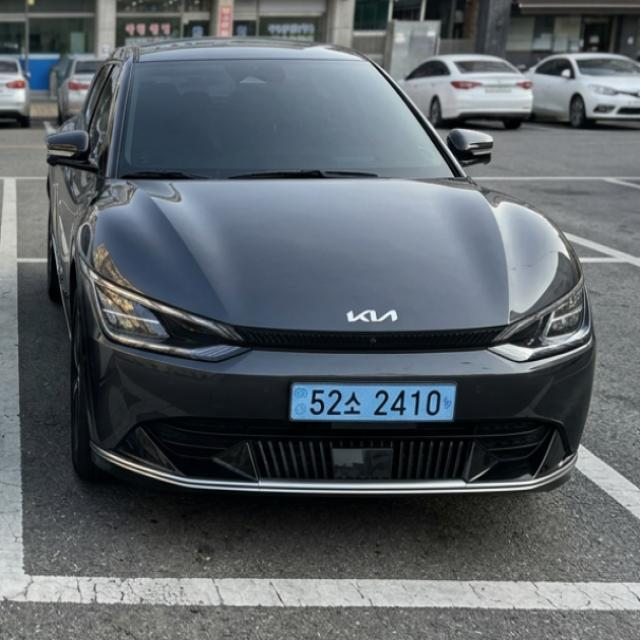car: (275, 377, 468, 435)
carev: (441, 381, 463, 421), (290, 379, 309, 421)
